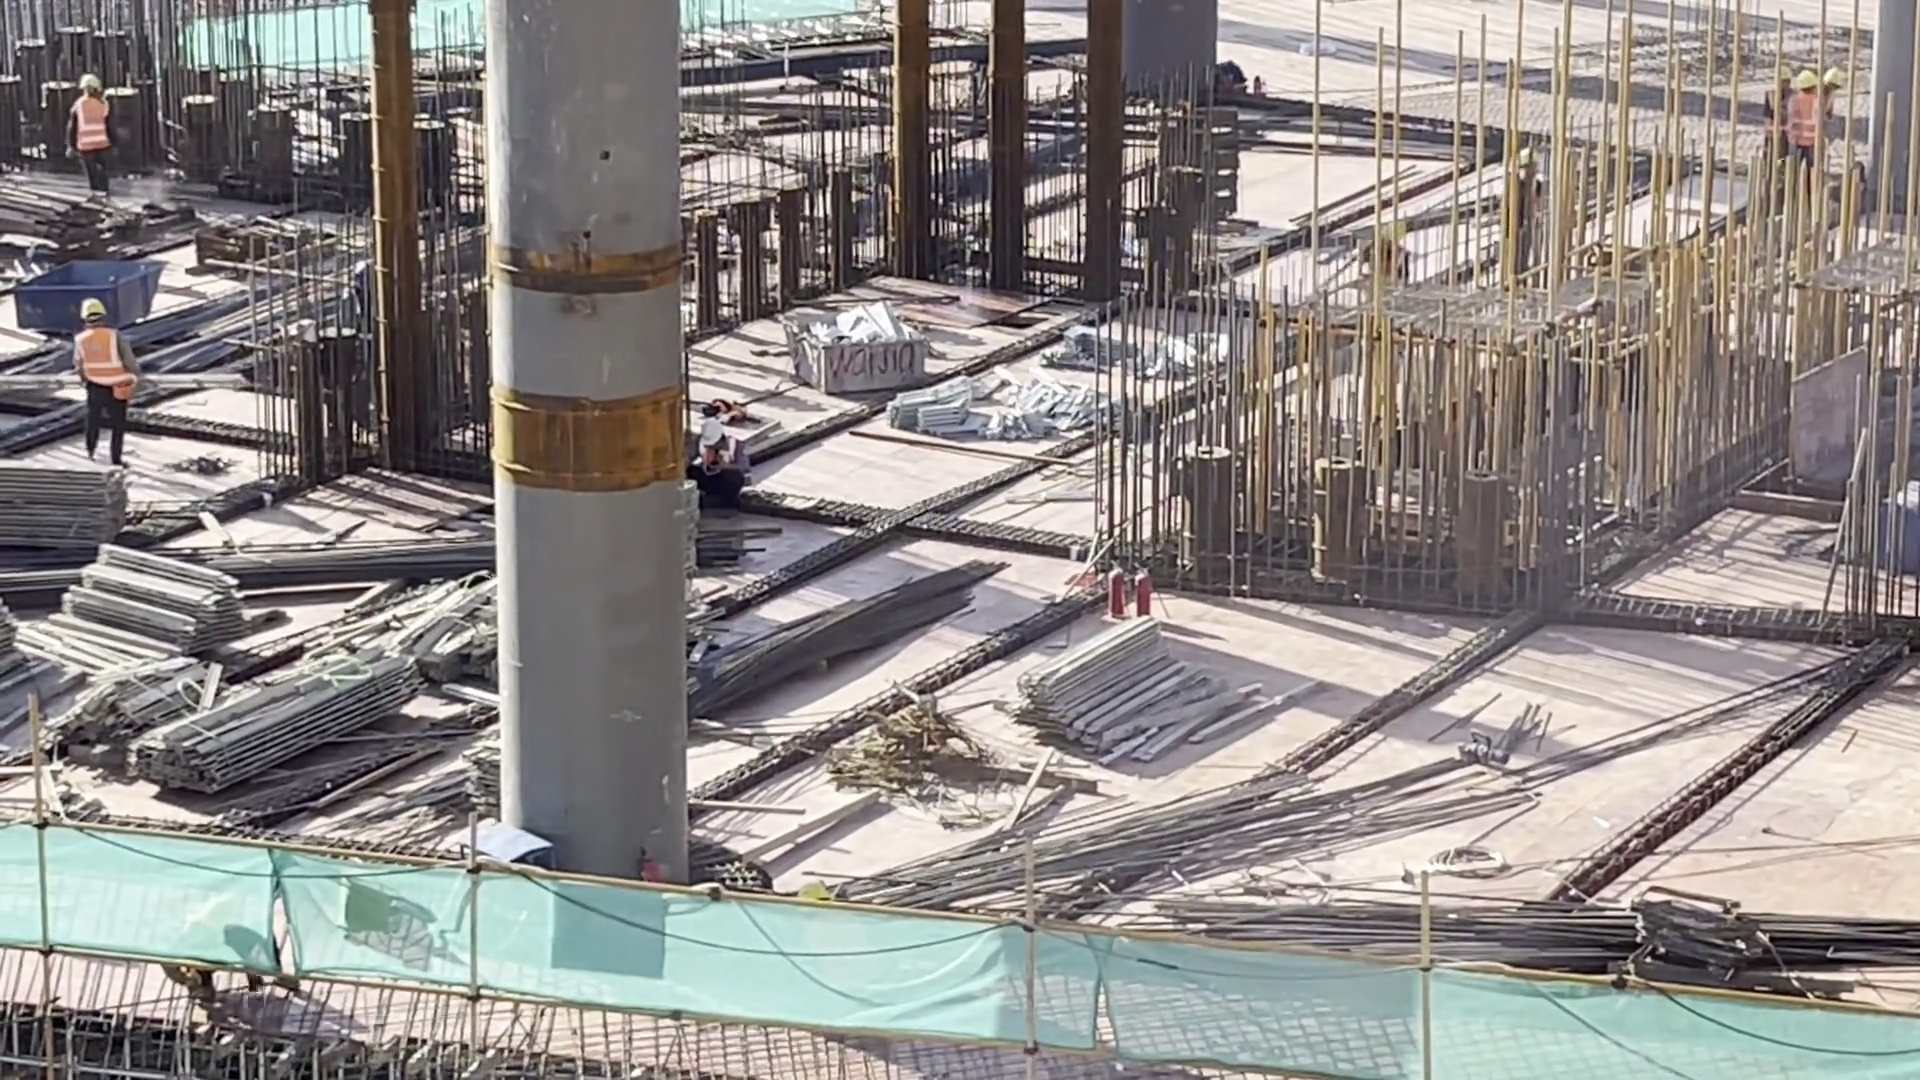helmet: (81, 297, 118, 324), (704, 415, 730, 443), (77, 61, 103, 87)
hopper: (778, 293, 934, 395), (10, 260, 166, 342)
person: (48, 293, 149, 450), (680, 409, 754, 511), (69, 74, 122, 189), (1782, 56, 1832, 175)
vest: (69, 320, 134, 397), (75, 90, 121, 143)
wood: (126, 654, 426, 797), (1017, 598, 1222, 761), (51, 535, 255, 658), (1, 455, 126, 569)
